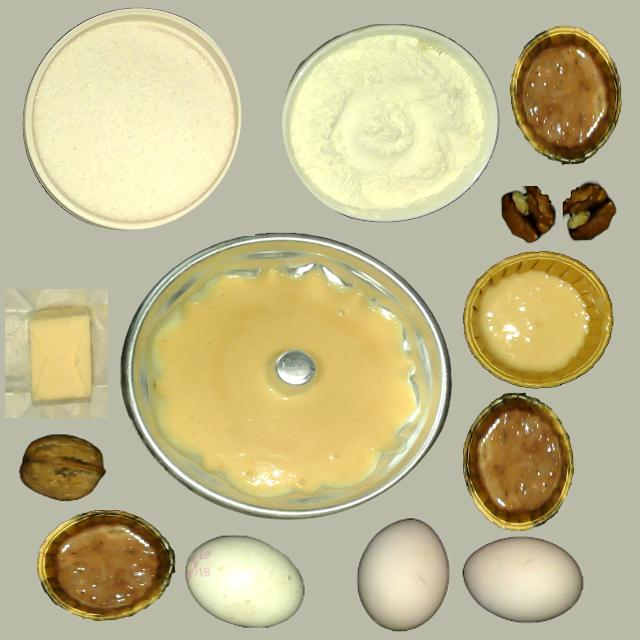Flour: (290, 34, 484, 215)
Sugar: (34, 18, 232, 226)
Walnut: (15, 429, 110, 504)
